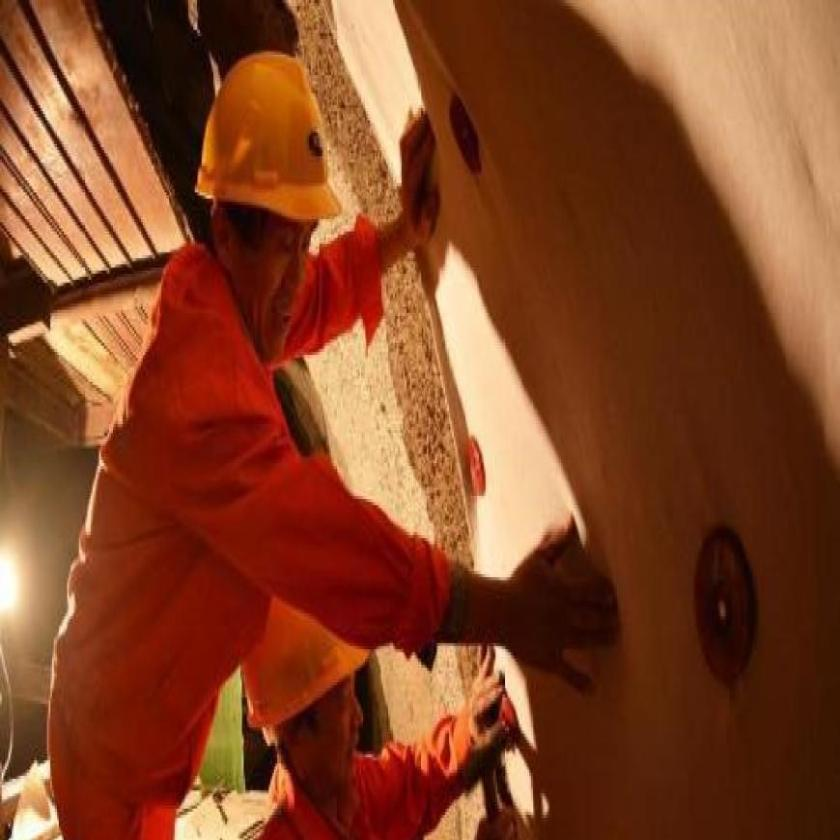Con_casco: (192, 49, 347, 380), (243, 576, 372, 802)
